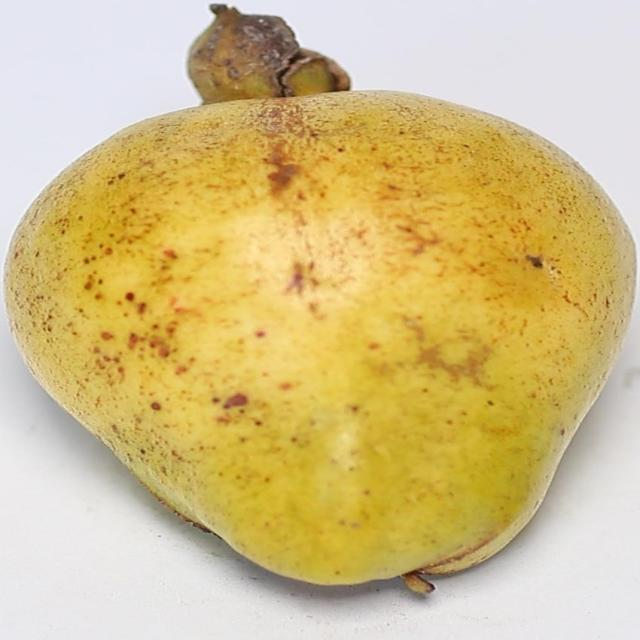Good_Guava: (5, 91, 636, 596)
